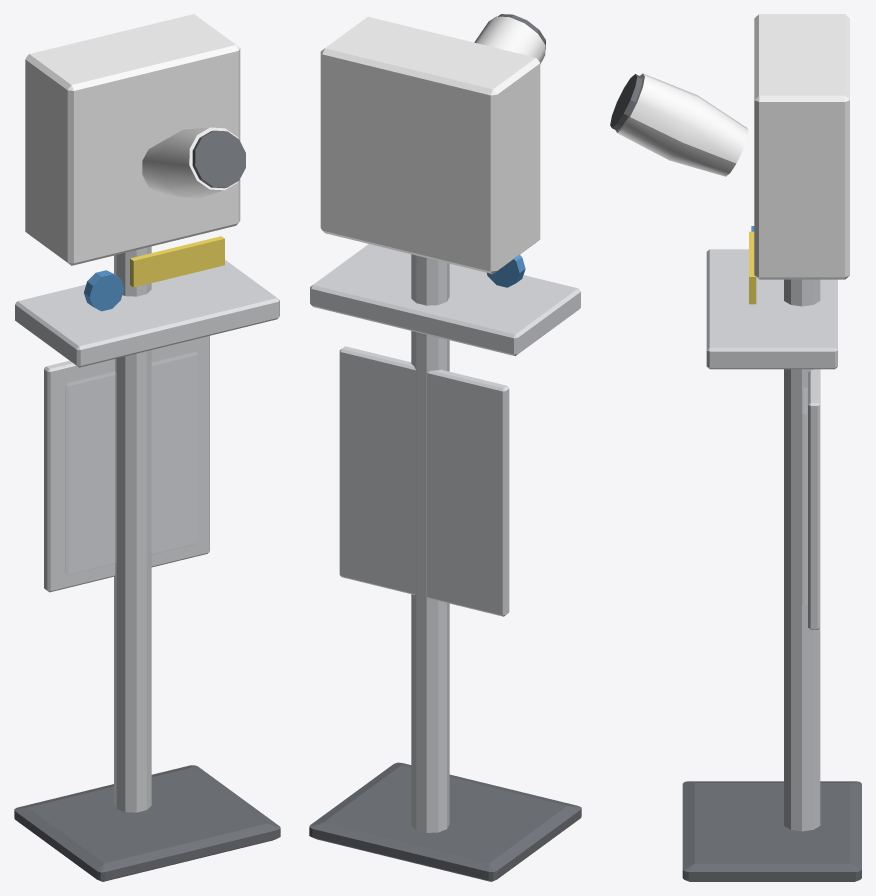
Rendered from public-swimming-baths-and-poolside-hairdryer-point-906afc19__35270.glb.
The picture shows the model from 3 angles, left to right: view 1: azimuth 30°, elevation 25°; view 2: azimuth 150°, elevation 25°; view 3: azimuth 270°, elevation 25°; orthographic projection. The views are drawn at different scales.
Parts seen in each view (by area): view 1: hairdryer-point; view 2: hairdryer-point; view 3: hairdryer-point.
Boxes of the visible parts, x1,y1,x2,y2 form: hairdryer-point: [14, 14, 280, 881]; hairdryer-point: [309, 14, 581, 881]; hairdryer-point: [610, 14, 861, 881].
Size of the model in its own units: 0.4 by 1.45 by 0.4216.
